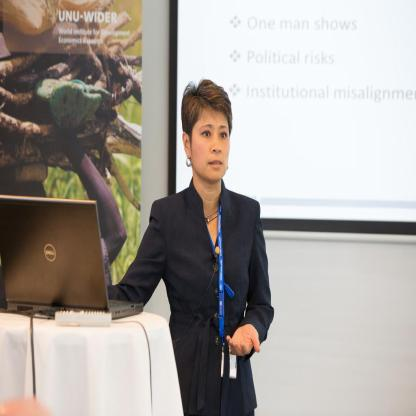board: (0, 195, 143, 323)
